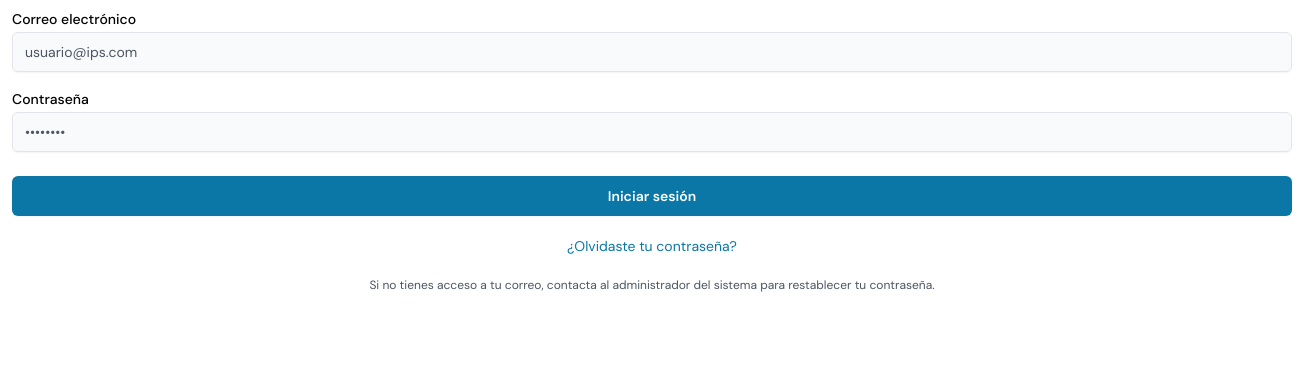
LoginForm › displays server-side error message and toast when action returns error
The image size is (1304, 365).
Type "user@example.com" into the field labelled "Correo electrónico" at coordinates (652, 52), box top-left (12, 32), bottom-right (1292, 72)
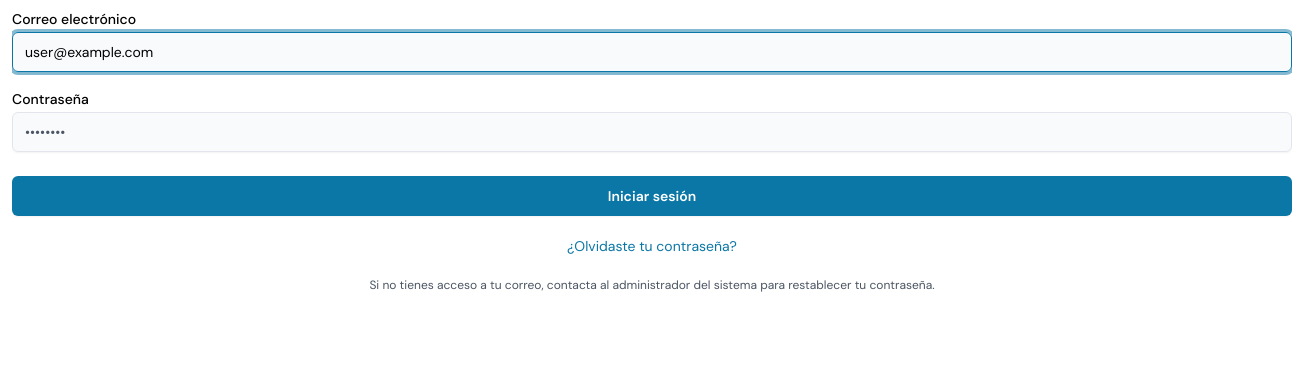
Type "password123" into the password field labelled "Contraseña" at coordinates (652, 132), box top-left (12, 112), bottom-right (1292, 152)
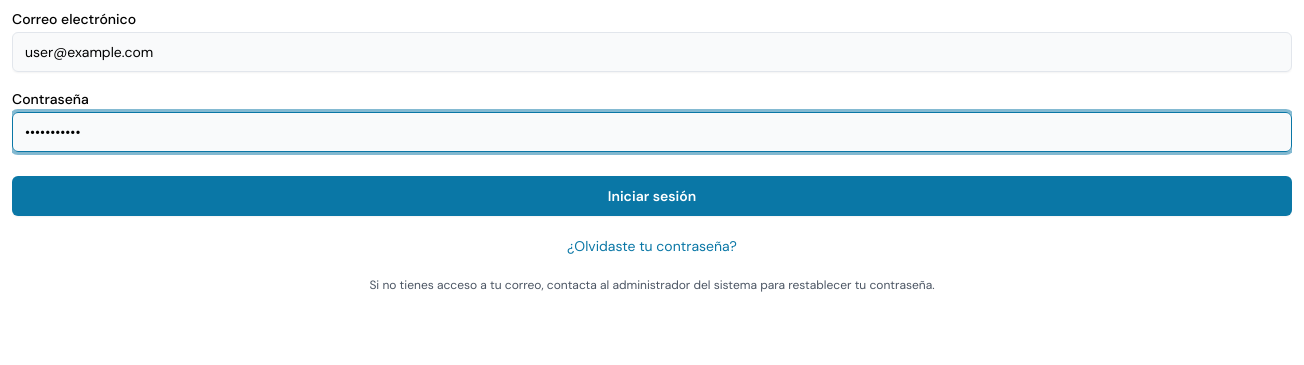
Click the button "Iniciar sesión" at coordinates (652, 196), box top-left (12, 176), bottom-right (1292, 216)
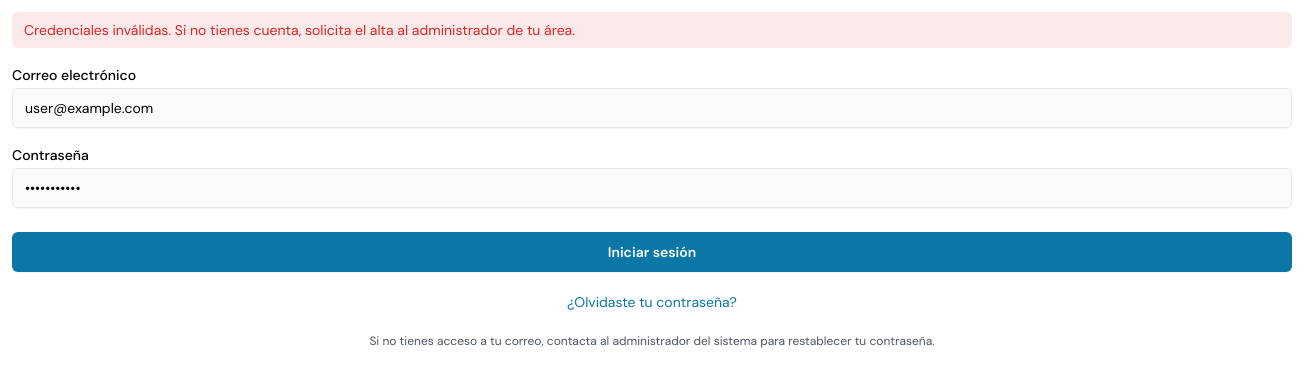
Now the message is shown, box top-left (12, 12), bottom-right (1292, 48)
Now the text "Credenciales inválidas. Si no tienes cuenta" is shown, box top-left (24, 21), bottom-right (575, 39)
